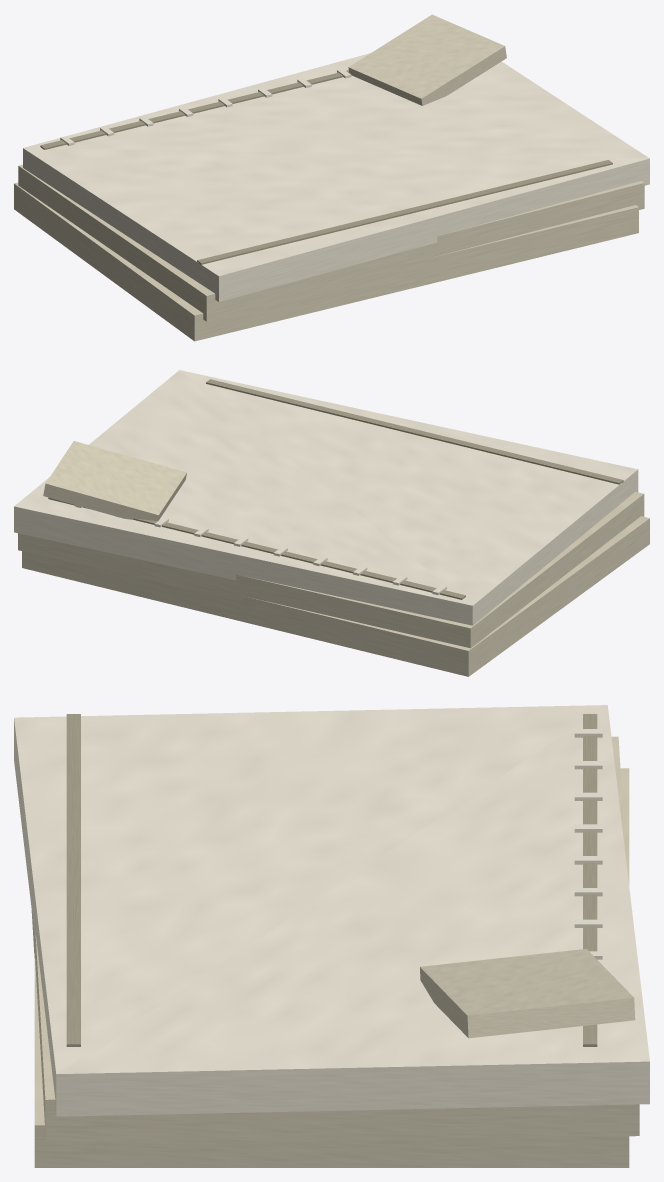
The model's file is wash_cloth.obj.
3 renders of one model, top to bottom at view 1: azimuth 30°, elevation 25°; view 2: azimuth 150°, elevation 25°; view 3: azimuth 270°, elevation 25°, orthographic. The views are drawn at different scales.
Visible parts, largest first — view 1: wash_cloth; view 2: wash_cloth; view 3: wash_cloth.
Boxes of the visible parts, left/top/right/bottom form: wash_cloth: left=14, top=14, right=649, bottom=341; wash_cloth: left=14, top=370, right=649, bottom=676; wash_cloth: left=14, top=705, right=649, bottom=1167.
Size of the model in its own units: 5.61 by 1.06 by 4.07.
Materials: 1 (1 with a texture image).
